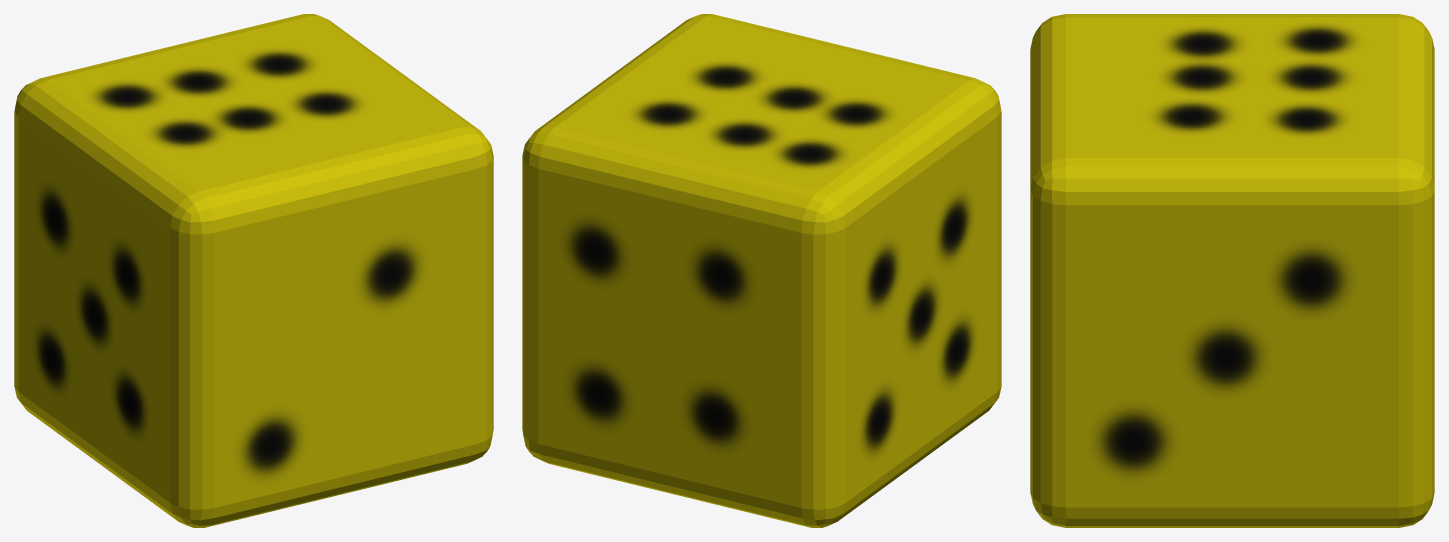
The model's file is Dice yellow.fbx.
3 views of the same model, side by side, from view 1: azimuth 30°, elevation 25°; view 2: azimuth 150°, elevation 25°; view 3: azimuth 270°, elevation 25° (orthographic). The views are drawn at different scales.
Parts seen in each view (by area): view 1: Cube; view 2: Cube; view 3: Cube.
Boxes of the visible parts, x1=… form: Cube: x1=14, y1=14, x2=493, y2=527; Cube: x1=522, y1=14, x2=1001, y2=527; Cube: x1=1030, y1=14, x2=1434, y2=527.
Size of the model in its own units: 200 by 200 by 200.
